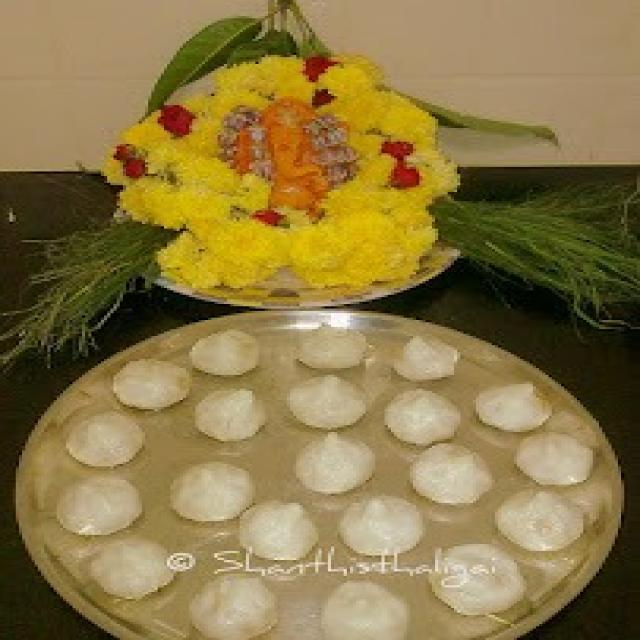poorna kolukattai: (428, 544, 528, 620), (494, 489, 584, 555), (188, 574, 278, 640), (55, 474, 144, 538), (408, 442, 496, 506), (86, 538, 173, 602), (318, 580, 410, 640), (338, 495, 426, 557), (236, 498, 321, 562), (293, 431, 376, 496), (62, 410, 146, 470), (284, 373, 368, 431), (170, 462, 252, 519), (192, 386, 268, 443), (513, 432, 591, 487), (111, 358, 189, 411), (473, 382, 549, 434), (390, 334, 459, 382), (296, 325, 366, 368), (189, 331, 255, 375)
